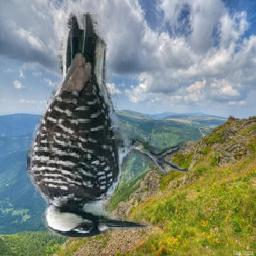Woodpecker: (21, 12, 193, 240)
